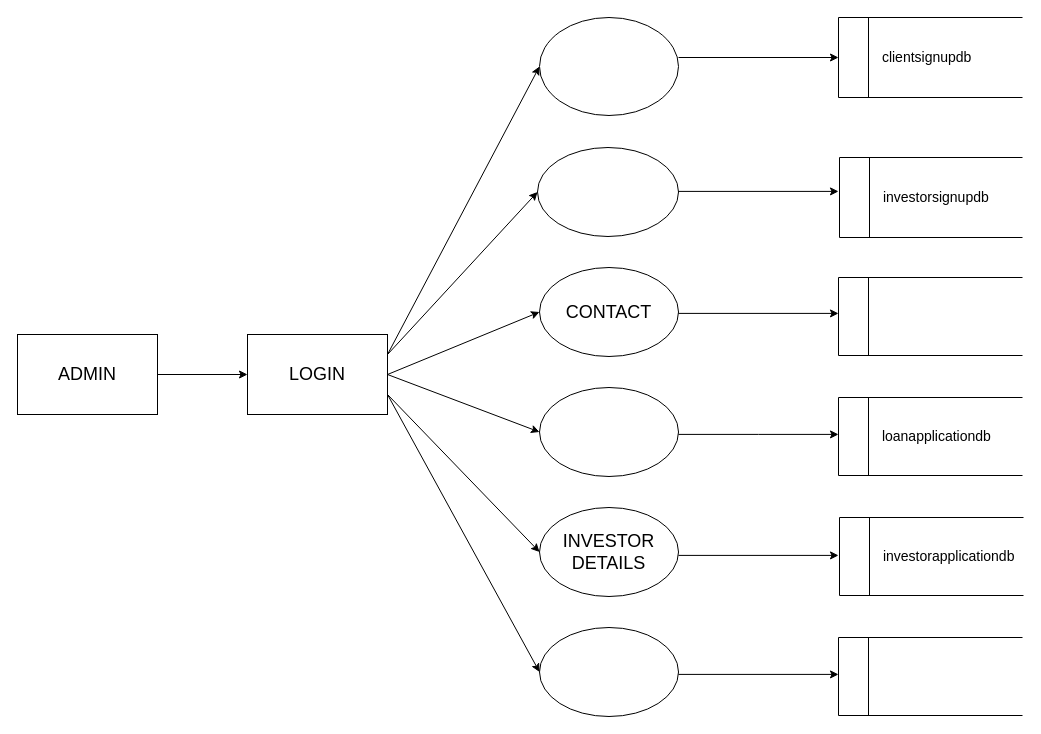
Some shapes in this 1041 by 734 pixel diagram are drawn without their labels. The box of each missing label's shape, as (x1, y1, x2, y2) in pixels:
APPLICANT DETAILS: (538, 386, 678, 476)
CLIENT SIGN UP: (538, 16, 678, 116)
contactdb: (838, 276, 1022, 356)
INVESTOR SIGN UP: (536, 146, 678, 236)
